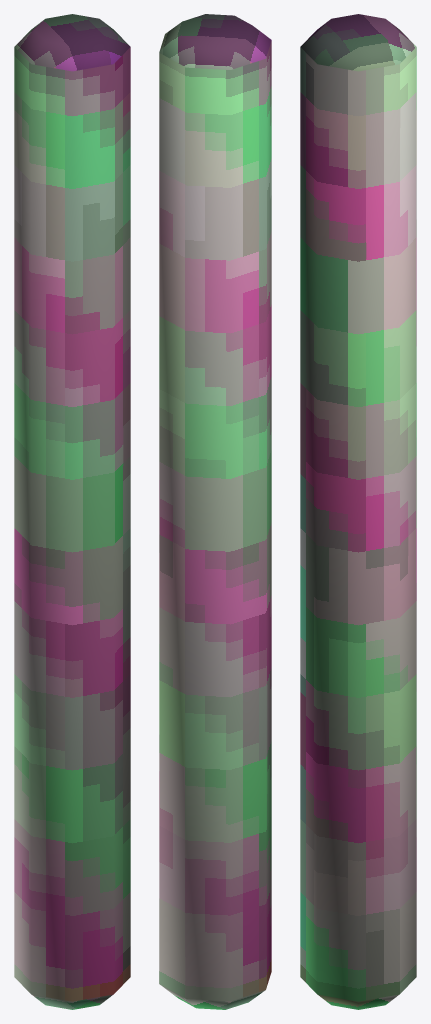
The model's file is item_metal_rod_easter.glb.
3 renders of one model, left to right at view 1: azimuth 90°, elevation 25°; view 2: azimuth 150°, elevation 25°; view 3: azimuth 270°, elevation 25°, orthographic.
Parts seen in each view (by area): view 1: MetalRod; view 2: MetalRod; view 3: MetalRod.
Part boxes in pixels (box(x1,y1,x2,y2)): MetalRod: box(14, 14, 130, 1009); MetalRod: box(159, 14, 271, 1009); MetalRod: box(300, 14, 416, 1009).
Size of the model in its own units: 0.1475 by 1.35 by 0.1475.
1 material, 1 textured.
